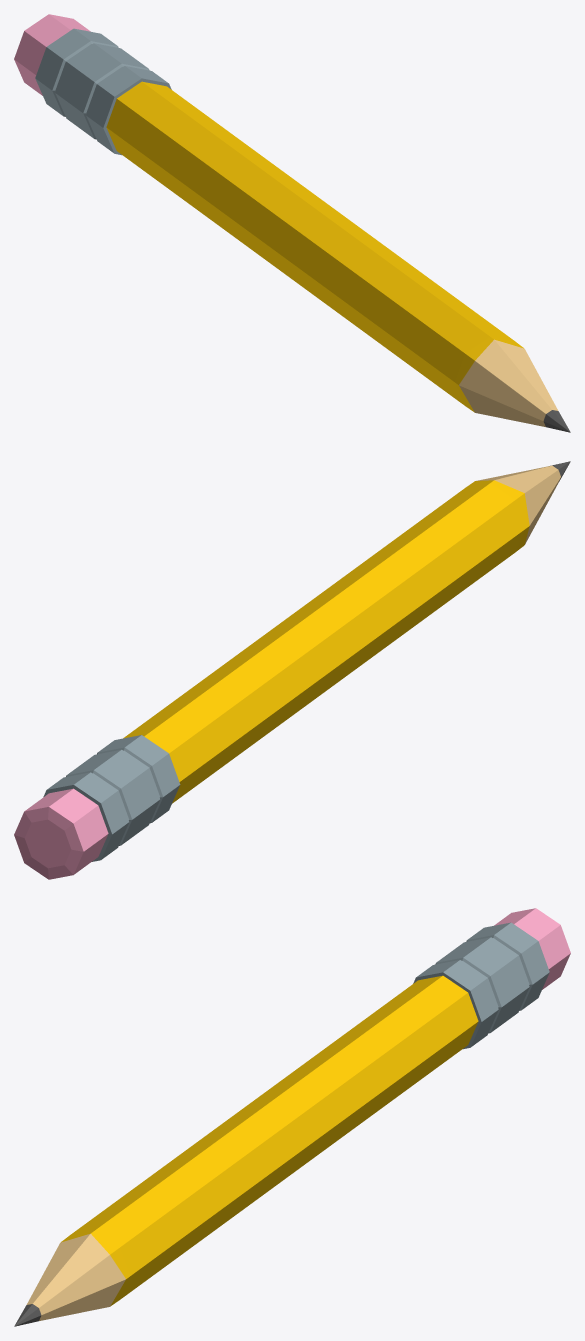
Rendered from Pencil.glb.
3 renders of one model, top to bottom at view 1: azimuth 30°, elevation 25°; view 2: azimuth 150°, elevation 25°; view 3: azimuth 330°, elevation 25°, orthographic.
Visible parts, largest first — view 1: Circle.004_Circle.008; view 2: Circle.004_Circle.008; view 3: Circle.004_Circle.008.
Part boxes in pixels (x1,y1,x2,y2): Circle.004_Circle.008: (14,14,570,432); Circle.004_Circle.008: (14,461,570,879); Circle.004_Circle.008: (14,908,570,1326).
Size of the model in its own units: 0.8445 by 0.8445 by 9.93.
